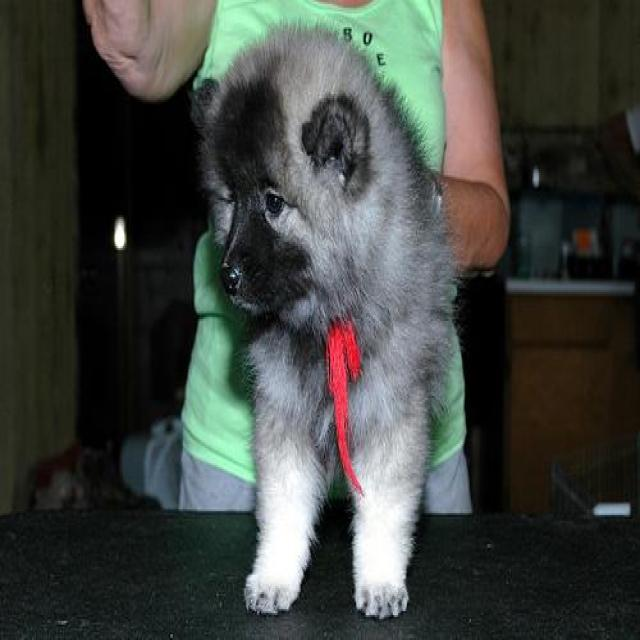relax: (186, 22, 476, 640)
